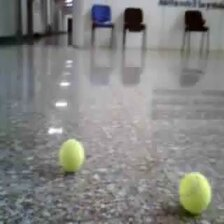tennis: (179, 172, 210, 211), (58, 139, 84, 172)
